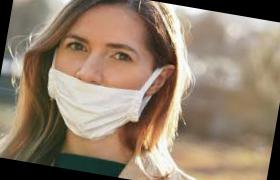mask_weared_incorrect: (39, 27, 166, 135)
